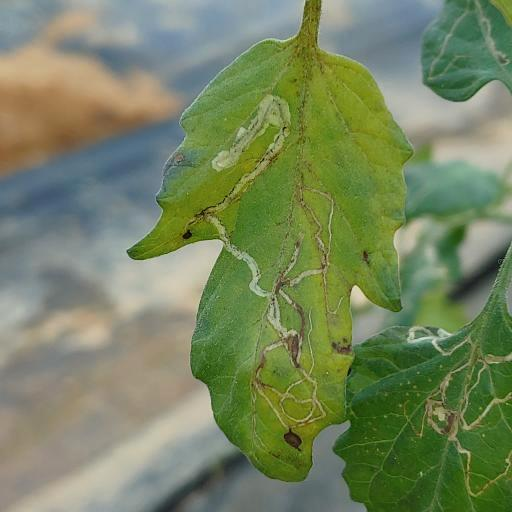disease_tomato: (124, 39, 416, 482)
